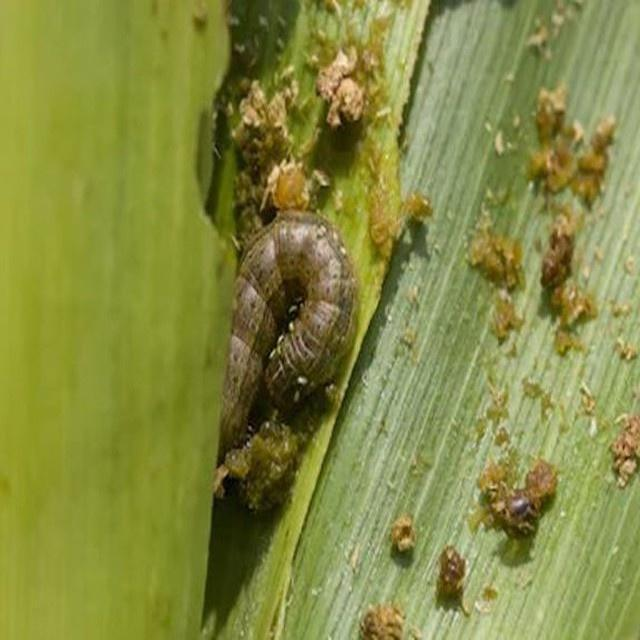gusano_cogollero: (218, 213, 358, 480)
